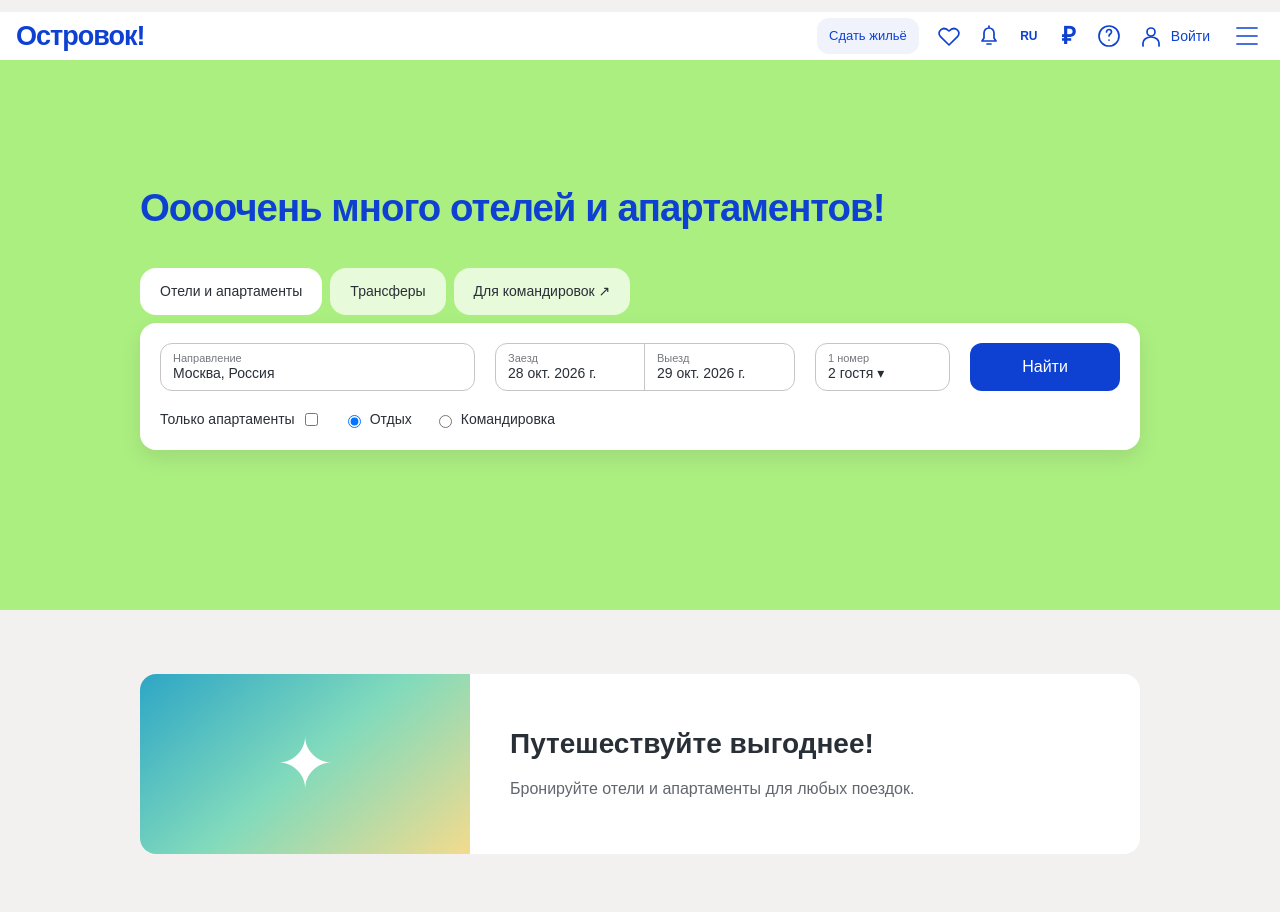
Test case: home search › uses ordinary buttons for switching search modes
Click the button "Трансферы" at (388, 292), box [330,268,446,315]
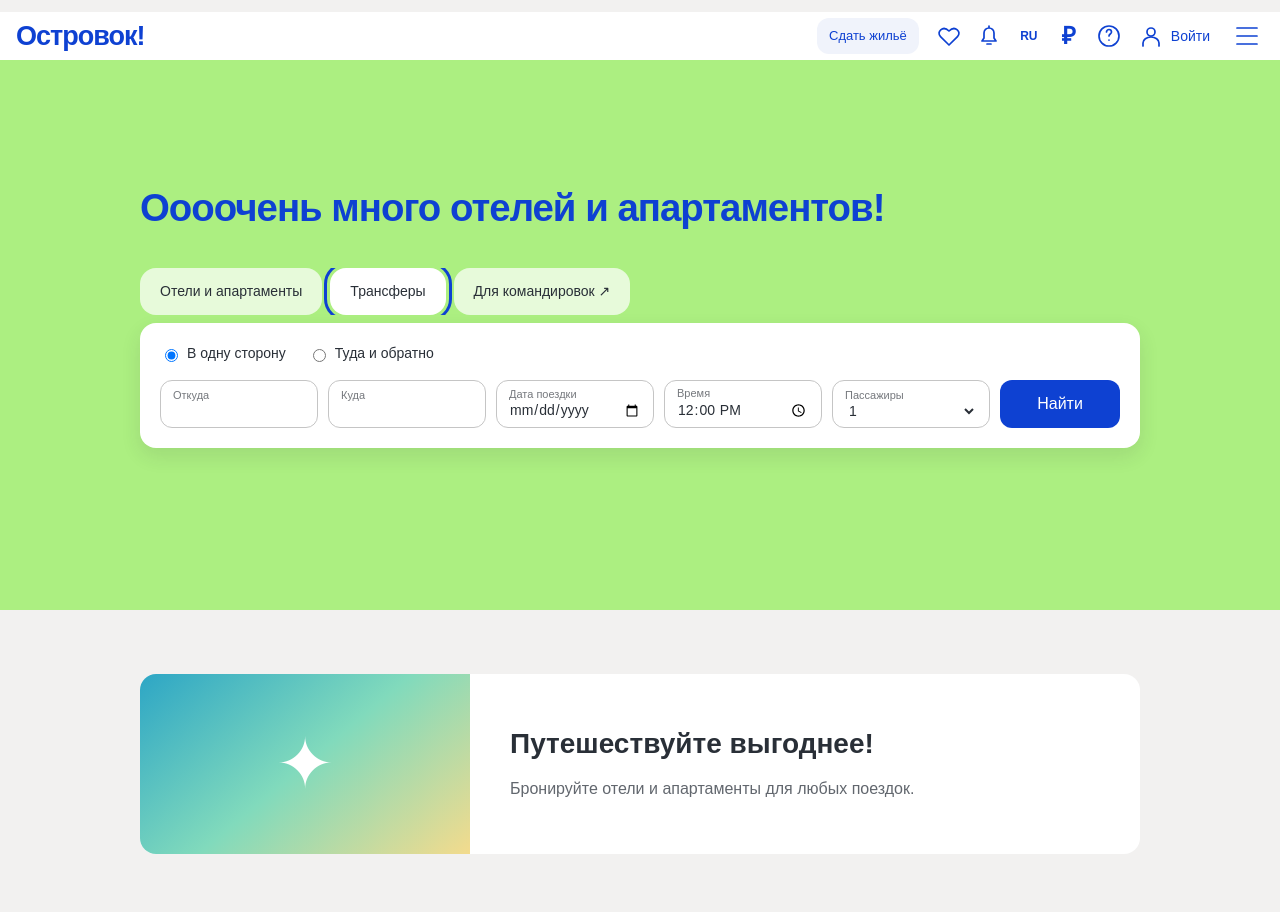
Expected: the field labelled "Откуда" is shown, [173,402,305,419]
